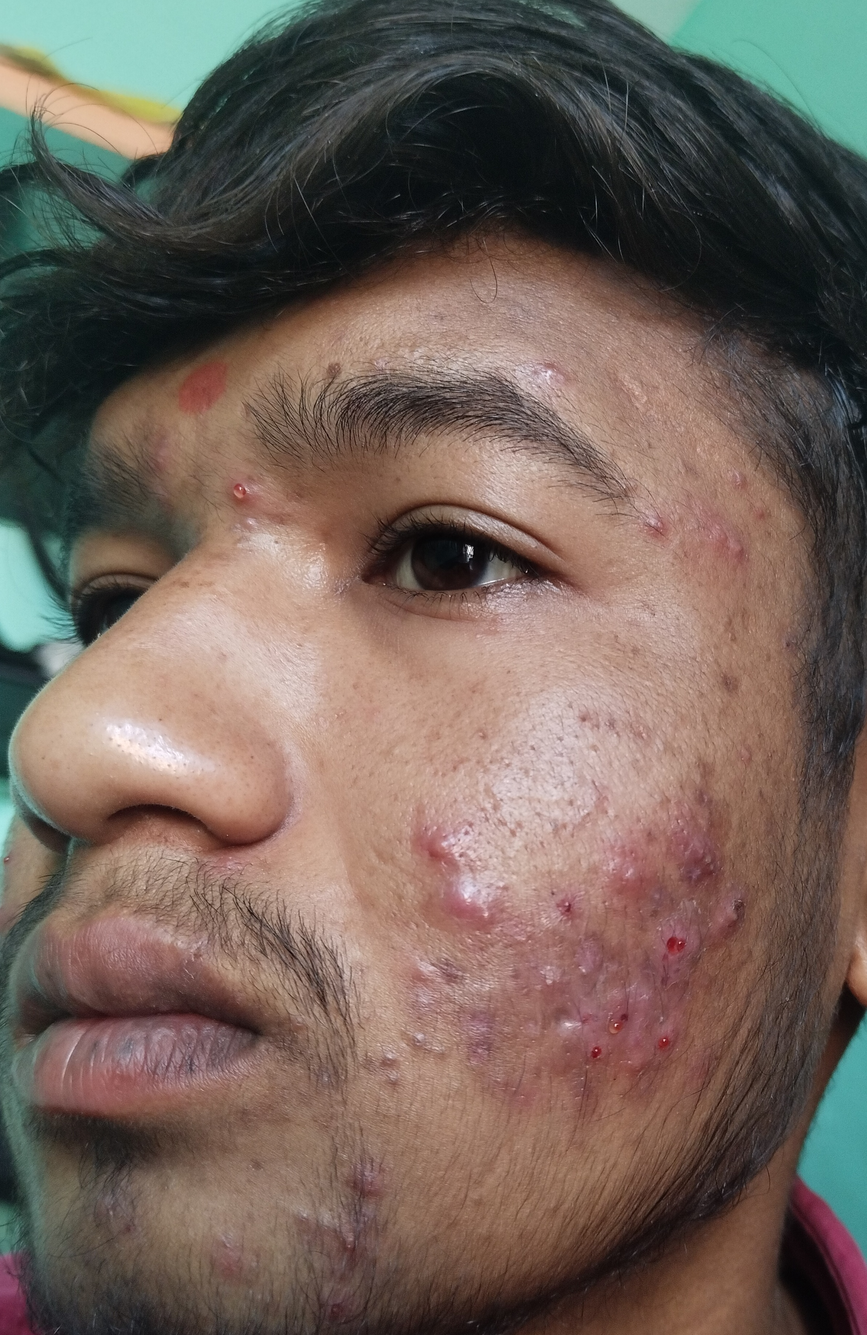cyst: (548, 985, 596, 1082), (447, 863, 502, 943), (403, 806, 473, 859), (610, 844, 658, 914)
papule: (350, 1018, 411, 1108), (339, 1154, 416, 1216), (638, 1011, 702, 1071), (522, 344, 570, 421), (700, 896, 751, 954), (715, 509, 757, 579), (640, 493, 669, 564)
pustule: (196, 469, 279, 529)
